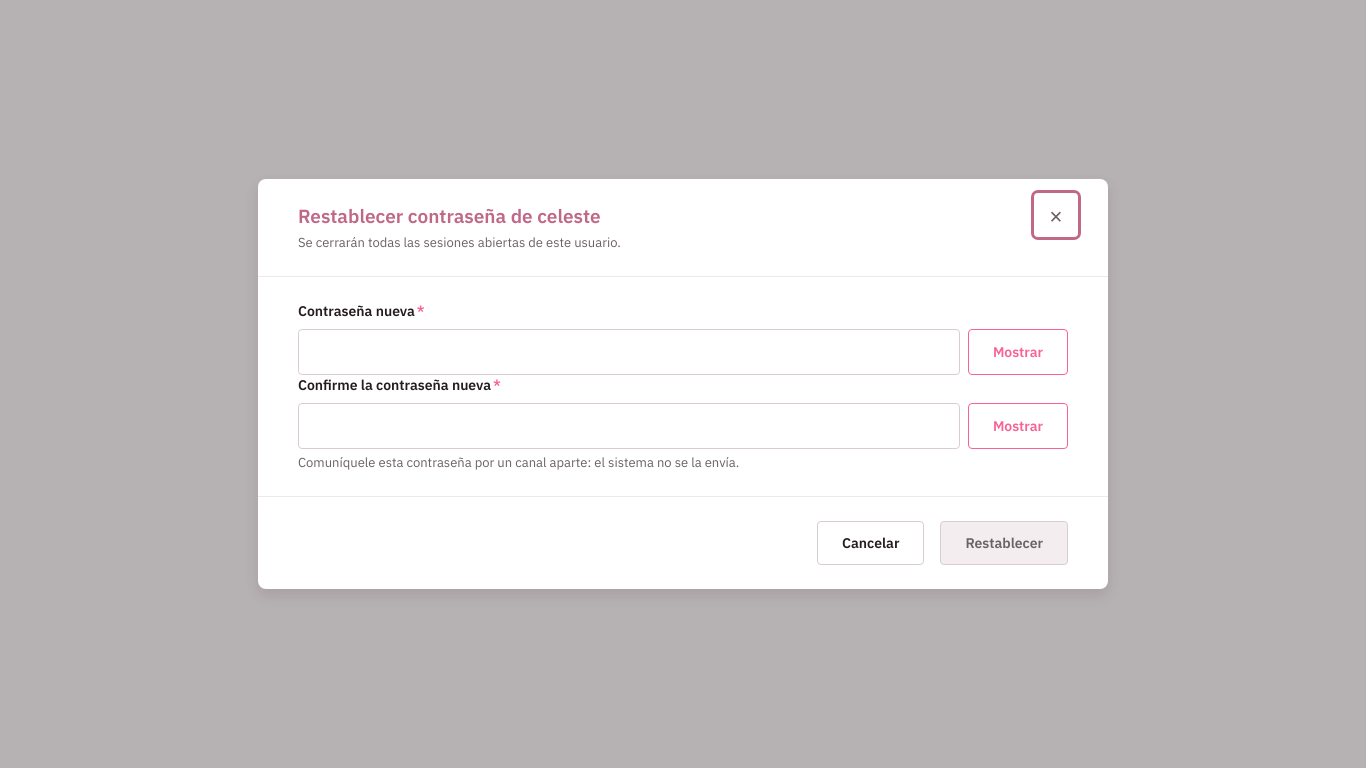
Test: Restablecer contraseña › no deja restablecer mientras la confirmación no coincida
In the password field labelled "Contraseña nueva*": (629, 352) top-left (298, 329), bottom-right (960, 375), type "Clave1234"
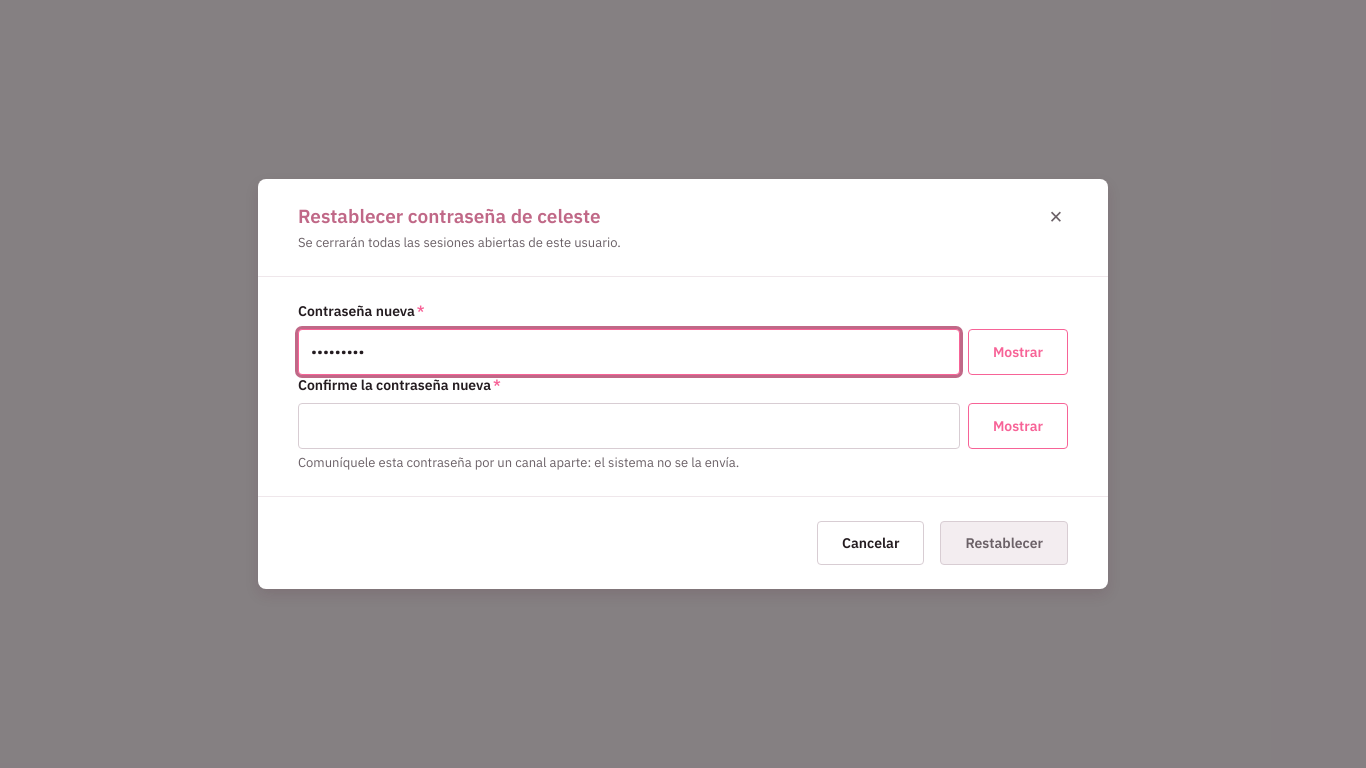
Check: the button "Restablecer" is disabled, box top-left (940, 521), bottom-right (1068, 565)
In the password field labelled "Confirme la contraseña nueva*": (629, 426) top-left (298, 403), bottom-right (960, 449), type "Clave1235"
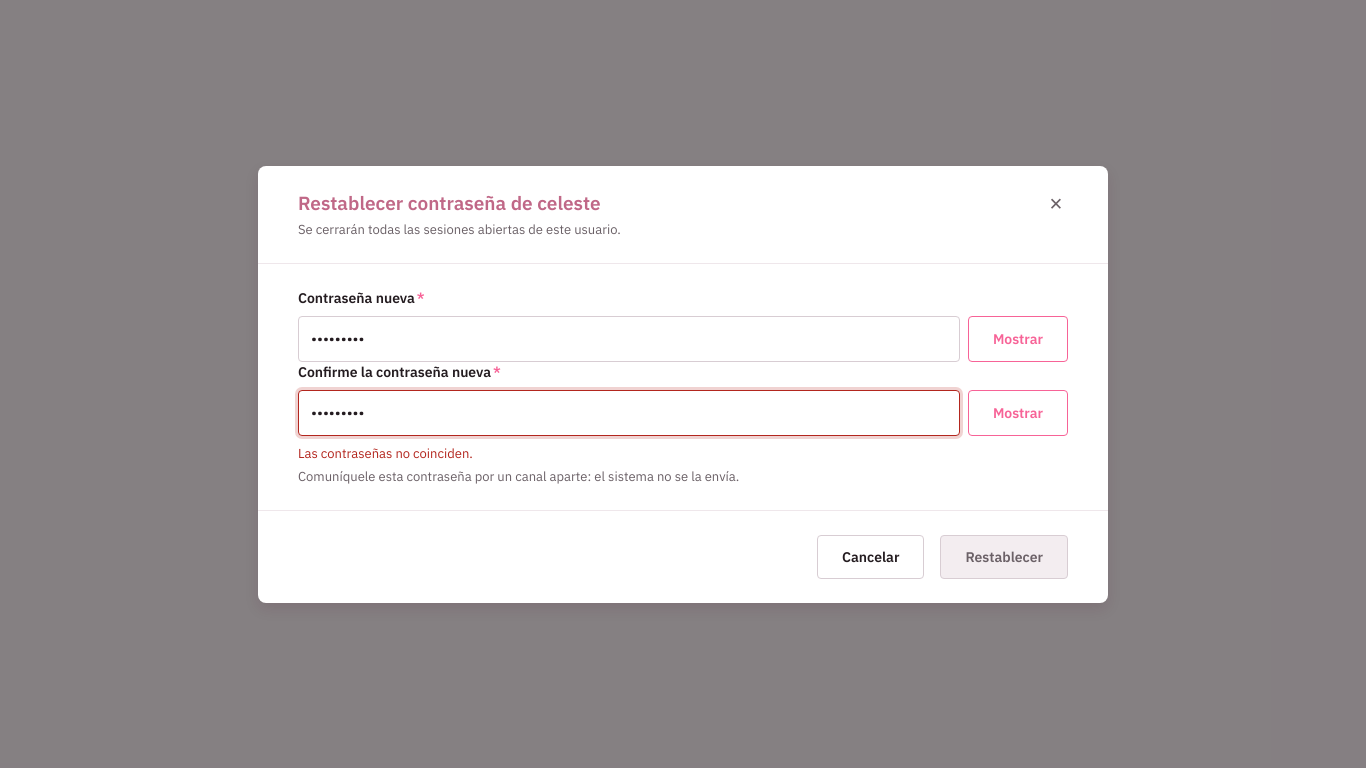
Check: the button "Restablecer" is disabled, box top-left (940, 534), bottom-right (1068, 578)
Check: the text "Las contraseñas no coinciden." is shown, box top-left (298, 444), bottom-right (473, 462)
Clear the password field labelled "Confirme la contraseña nueva*": (629, 412) top-left (298, 390), bottom-right (960, 436)
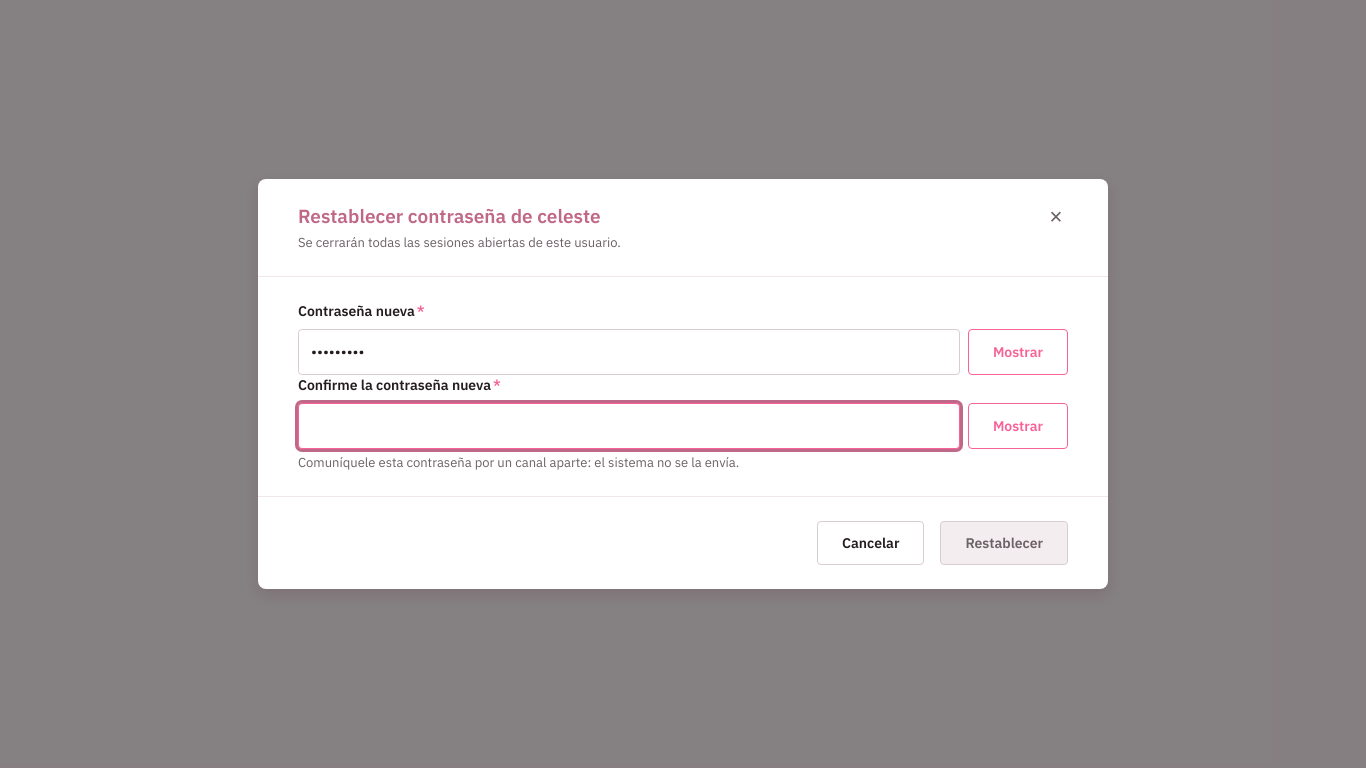
In the password field labelled "Confirme la contraseña nueva*": (629, 426) top-left (298, 403), bottom-right (960, 449), type "Clave1234"
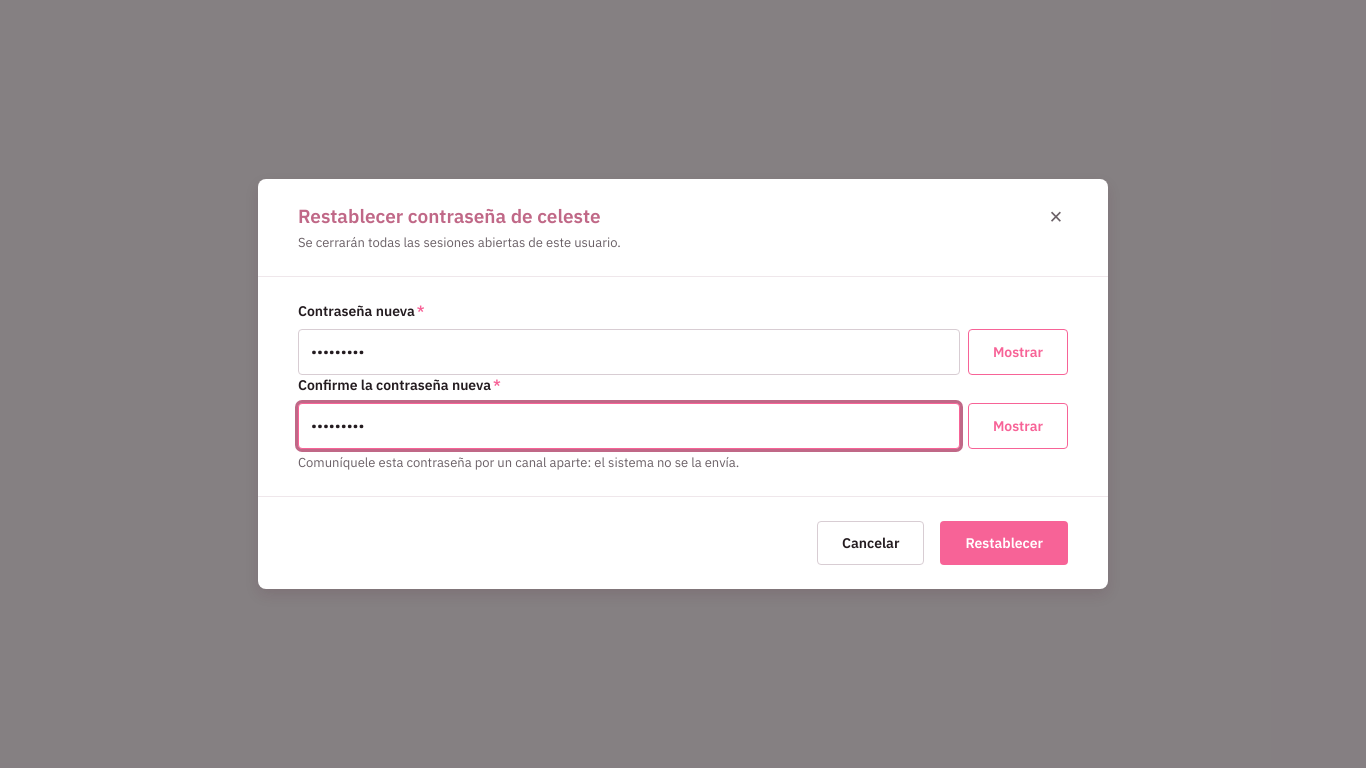
Check: the text "Las contraseñas no coinciden." is not shown
Check: the button "Restablecer" is enabled, box top-left (940, 521), bottom-right (1068, 565)
